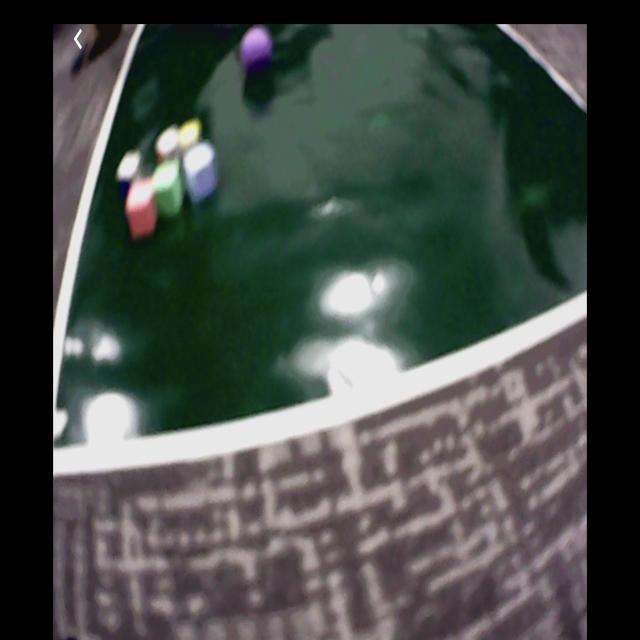ball: (242, 29, 276, 77)
